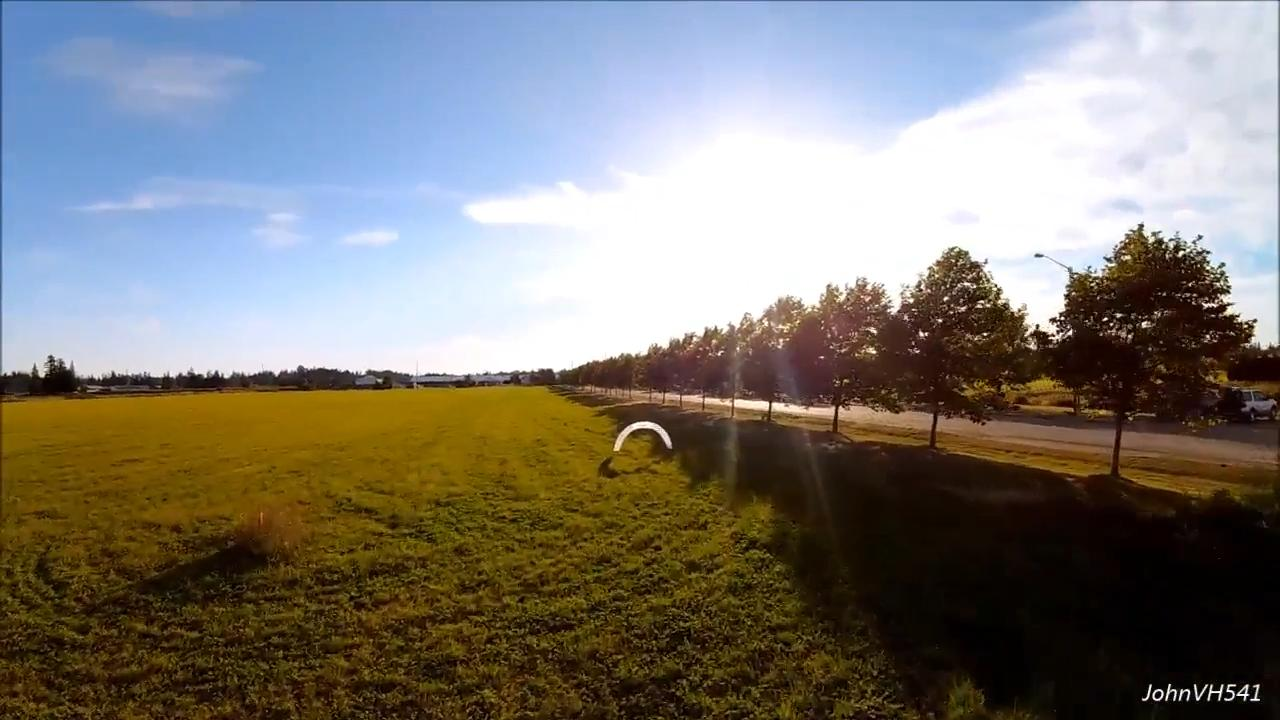gate: (612, 421, 673, 457)
